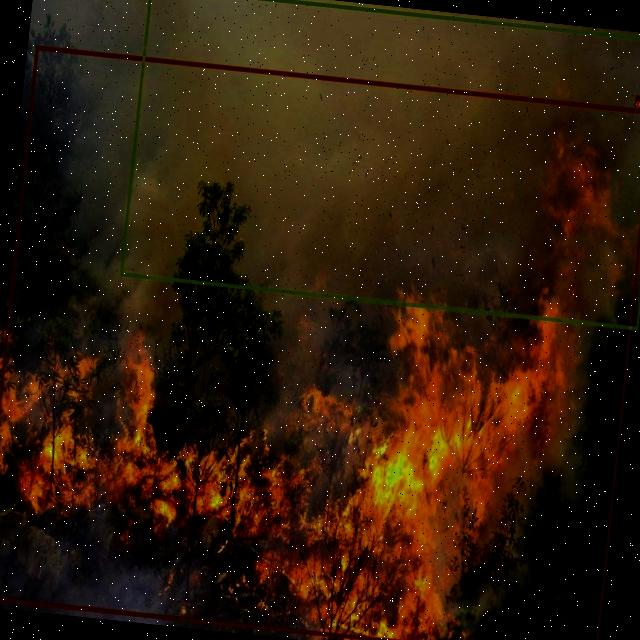fire: (0, 45, 640, 640)
smoke: (119, 0, 640, 329)
